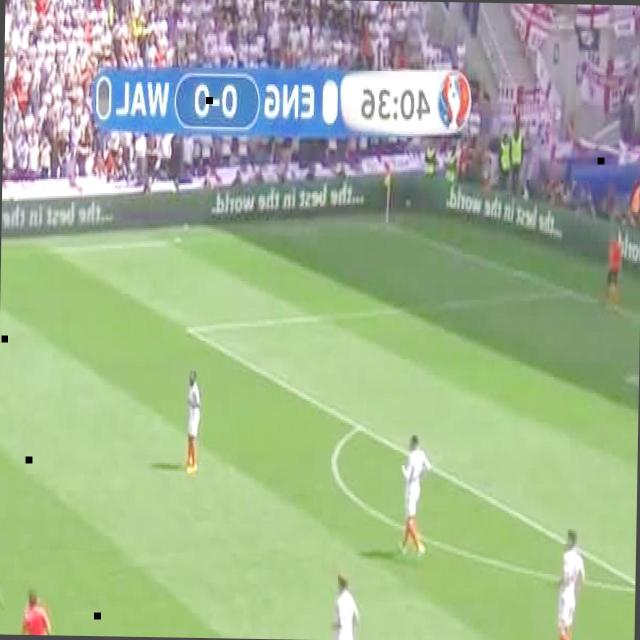player-white: (395, 433, 431, 561), (552, 526, 586, 640), (20, 589, 64, 636), (332, 571, 361, 640), (184, 369, 202, 474), (603, 226, 624, 308), (0, 502, 8, 608)
